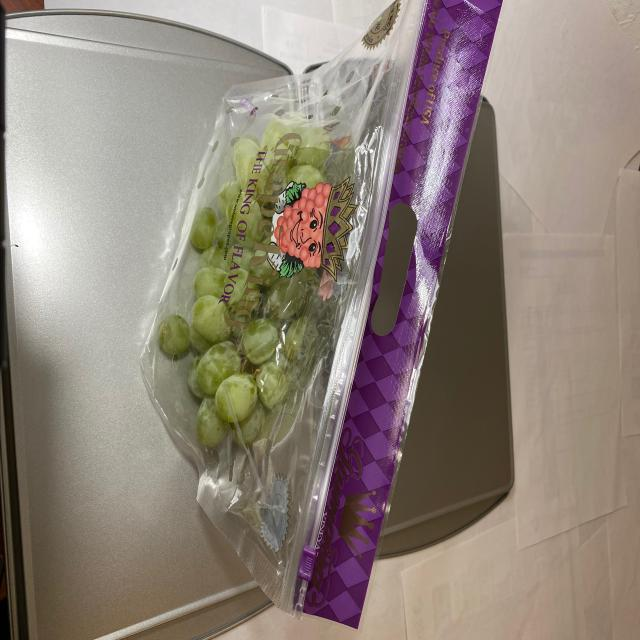grapes: (168, 100, 324, 486)
